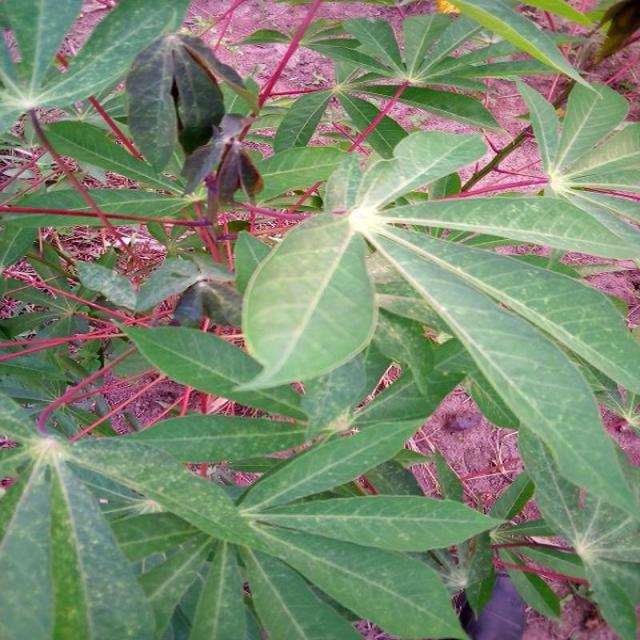cassava leaf: (2, 1, 639, 638), (240, 209, 380, 393)
